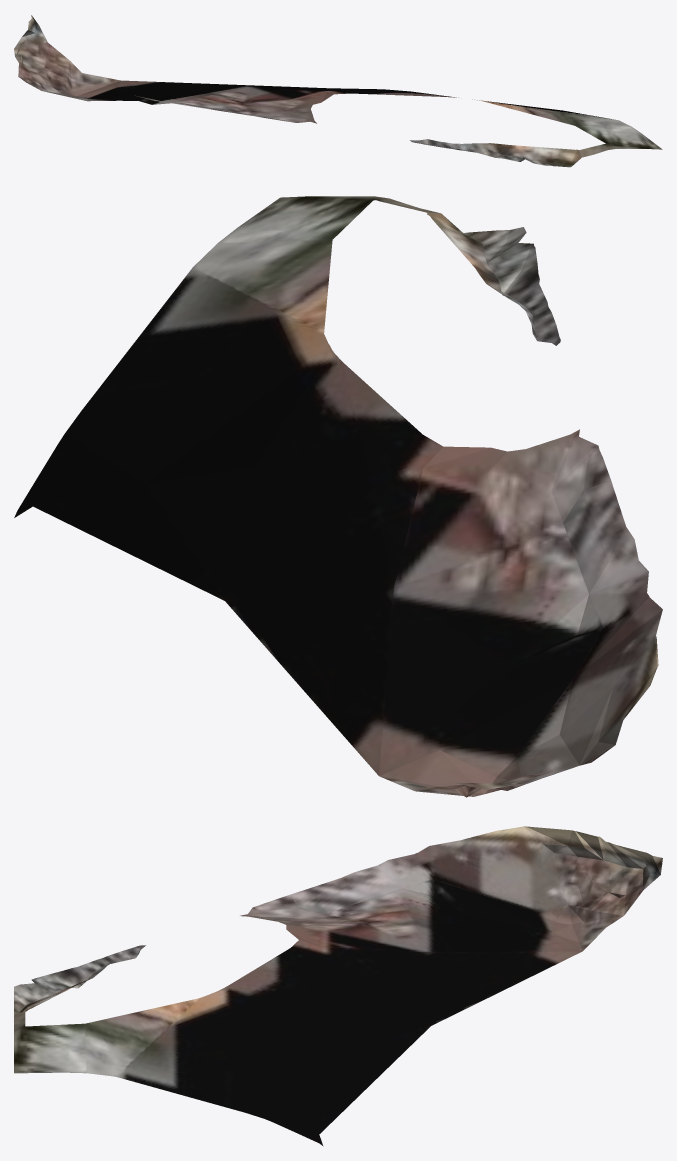
3 views of the same model, one above another, from view 1: azimuth 30°, elevation 25°; view 2: azimuth 150°, elevation 25°; view 3: azimuth 270°, elevation 25° (orthographic). The views are drawn at different scales.
Size of the model in its own units: 8.75 by 1.61 by 10.46.
1 material, 1 textured.
